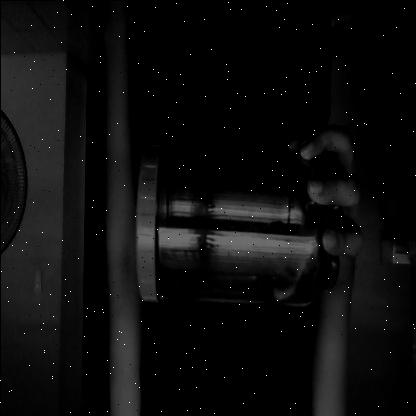Plastic Bottle: (132, 136, 342, 313)
